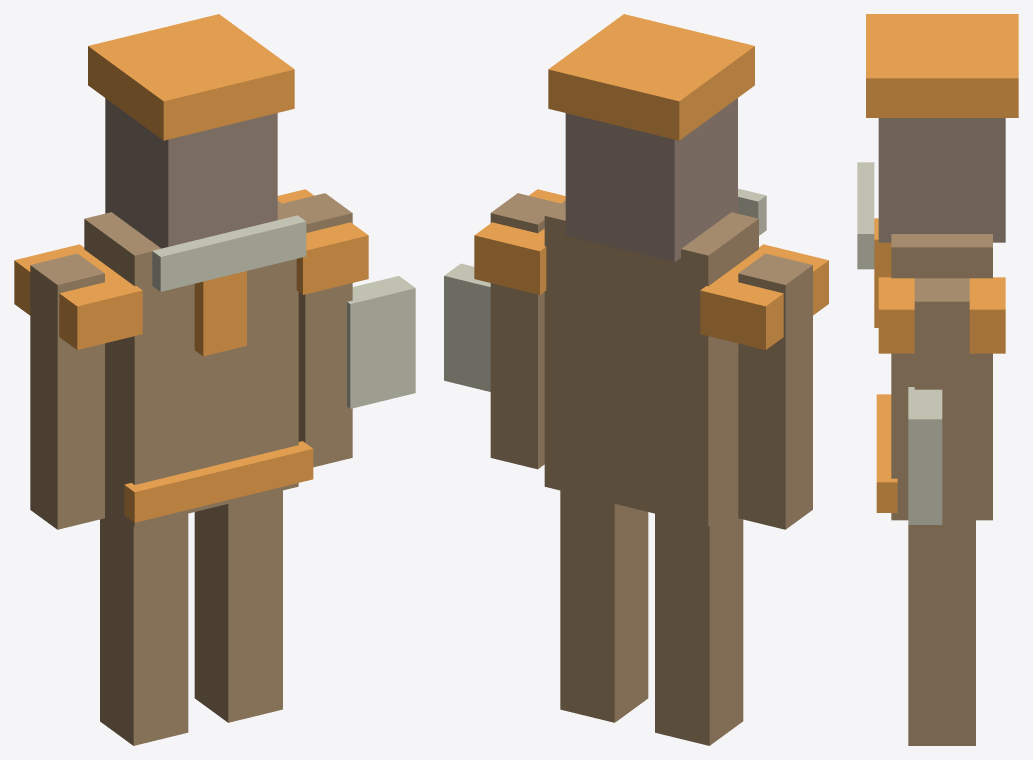
File: 08_dax_mossguard_broker_of_echo.glb
The picture shows the model from 3 angles, left to right: view 1: azimuth 30°, elevation 25°; view 2: azimuth 150°, elevation 25°; view 3: azimuth 270°, elevation 25°; orthographic projection.
Visible parts, largest first — view 1: Dax Mossguard, Broker of Echo; view 2: Dax Mossguard, Broker of Echo; view 3: Dax Mossguard, Broker of Echo.
Part boxes in pixels (left/top/right/bottom): Dax Mossguard, Broker of Echo: left=14, top=14, right=415, bottom=745; Dax Mossguard, Broker of Echo: left=444, top=14, right=828, bottom=745; Dax Mossguard, Broker of Echo: left=857, top=14, right=1018, bottom=745.
Bounding box in the file's own units: 0.9492 × 1.68 × 0.37.
